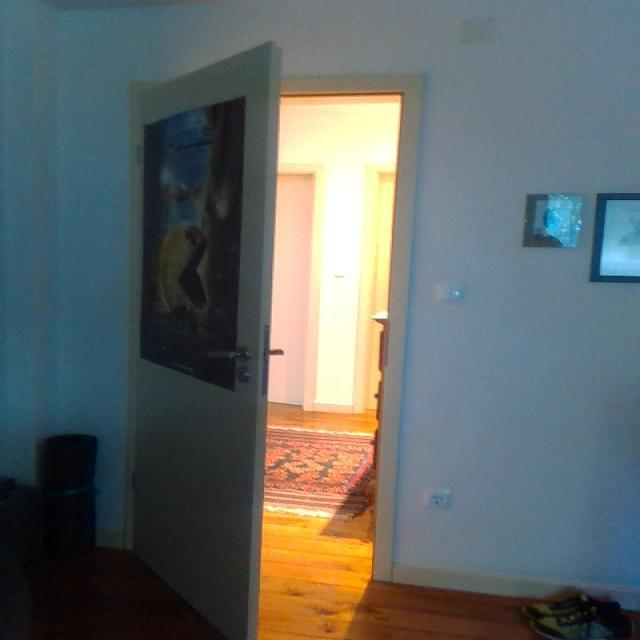door_local: (117, 38, 429, 640)
